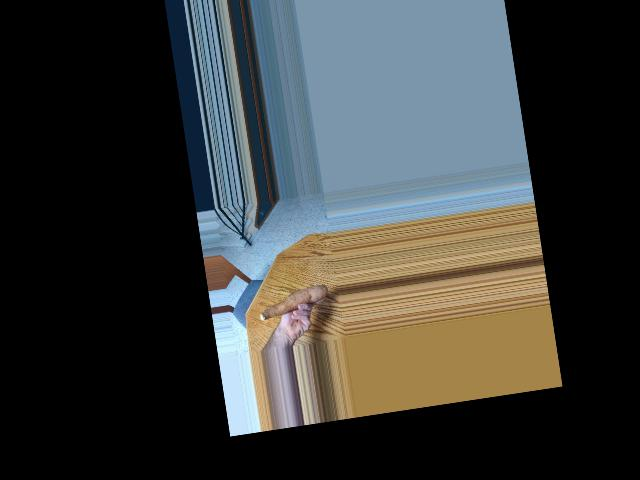sweet_potato: (253, 279, 328, 321)
